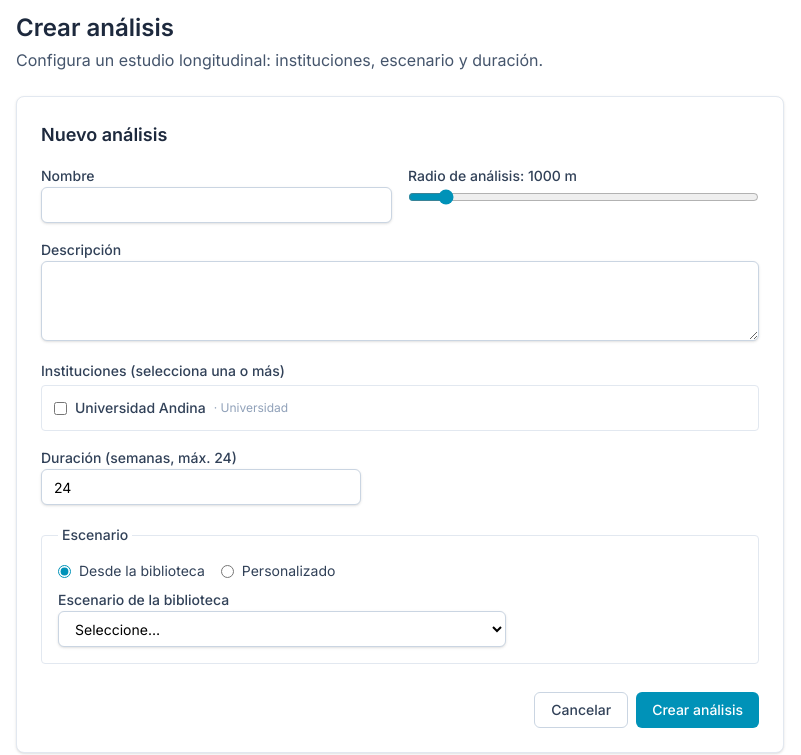
Test: GdsAnalisisNuevo (creación de análisis) › crea el análisis y anuncia el inicio del ciclo (Req. 8.1, 8.5)
Expected: the text "Universidad Andina" is shown, [75, 398, 206, 418]
In the field named "Nombre del análisis": point(216, 205) [41, 187, 392, 223], type "Estudio U Andina"
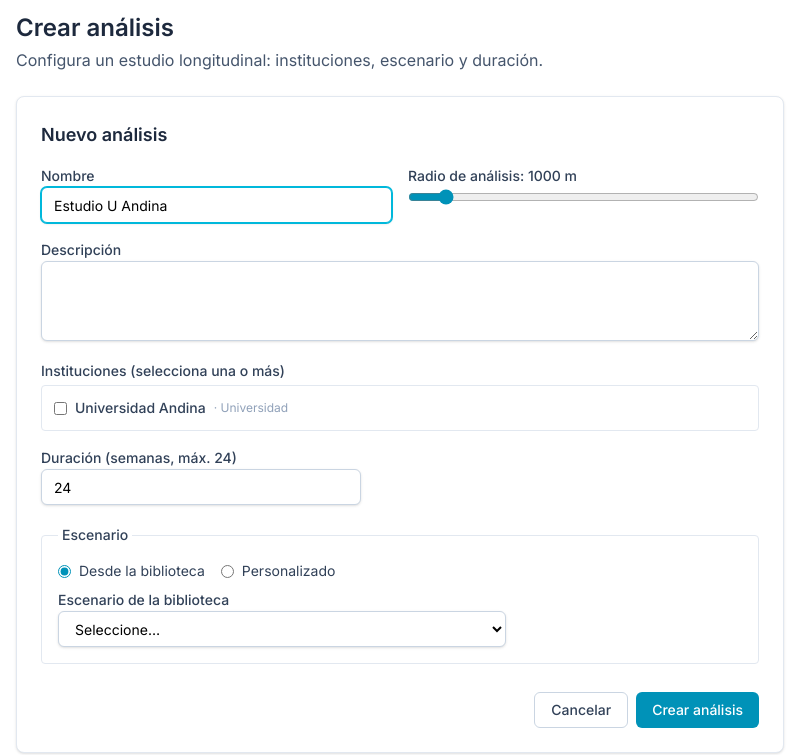
Click the checkbox labelled "Universidad Andina · universidad": point(60, 408) [54, 402, 67, 414]
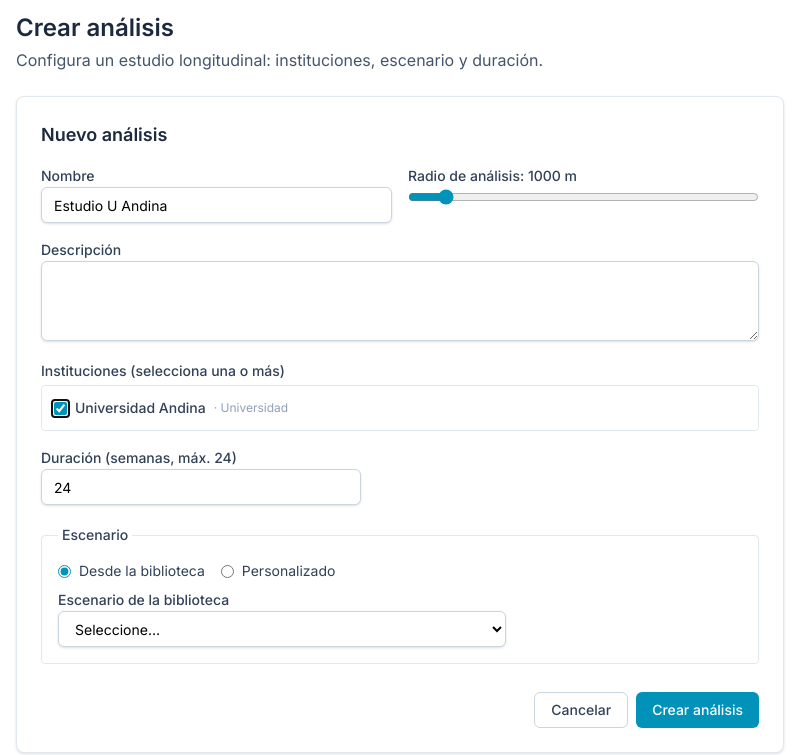
Select "Conflicto Universitario" in the dropdown labelled "Escenario de la biblioteca": point(282, 629) [58, 611, 506, 647]
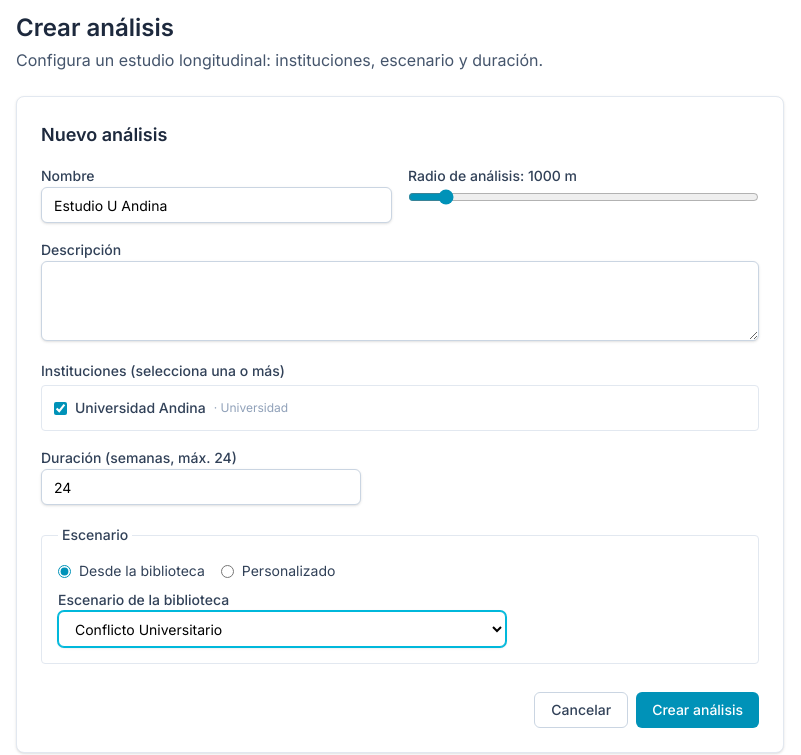
Click the button "Crear análisis": point(698, 710) [636, 692, 759, 728]
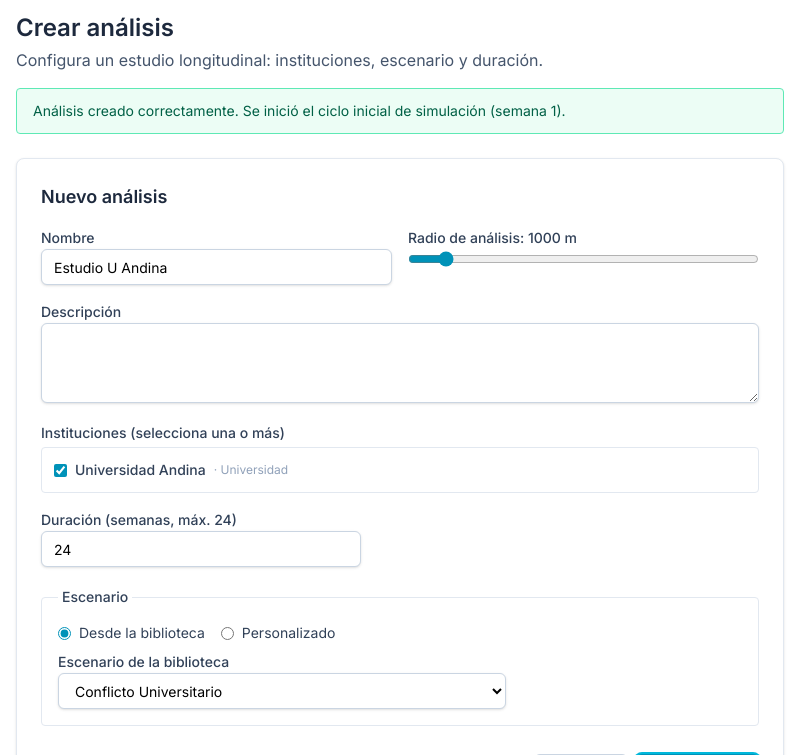
Now the text "Se inició el ciclo inicial de simulación" is shown, box [33, 102, 566, 119]
